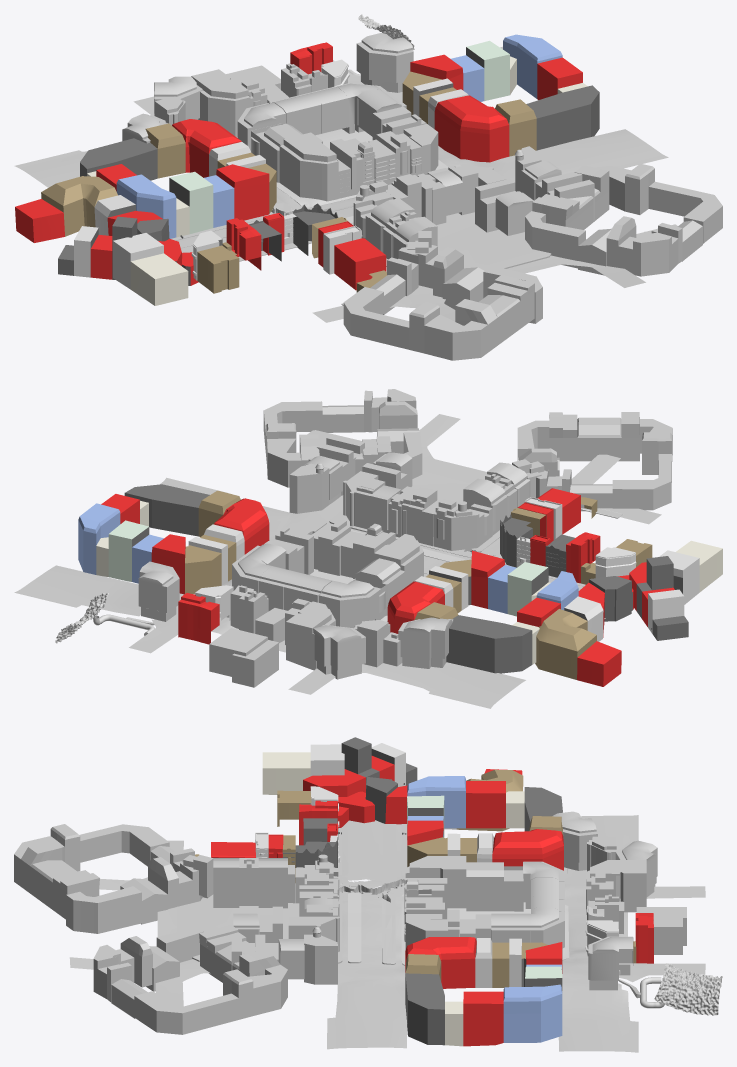
Rendered from Prova.fbx.
3 views of the same model, one above another, from view 1: azimuth 30°, elevation 25°; view 2: azimuth 150°, elevation 25°; view 3: azimuth 270°, elevation 25° (orthographic). The views are drawn at different scales.
Visible parts, largest first — view 1: ScaleTest004, Box175, Box184, Object048, Plane086, Plane087, Plane088, Plane111, Object040, Plane106, Object046, Object043 (+21 smaller); view 2: ScaleTest004, Object048, Box175, Box184, Plane086, Plane087, Object045, Object046, Object044, Plane111, Plane091, Object040 (+27 smaller); view 3: ScaleTest004, Object048, Box184, Box175, Plane086, Plane087, Plane112, Plane111, Plane106, Plane089, Plane088, Object046 (+23 smaller).
Part boxes in pixels (x1,y1,x2,y2): ScaleTest004: [15, 34, 599, 305]; Box175: [343, 245, 542, 360]; Box184: [525, 163, 722, 276]; Object048: [14, 46, 677, 322]; Plane086: [191, 203, 386, 293]; Plane087: [330, 106, 438, 198]; Plane088: [279, 132, 338, 201]; Plane111: [356, 33, 413, 92]; Object040: [269, 87, 348, 135]; Plane106: [191, 69, 250, 137]; Object046: [290, 42, 349, 87]; Object043: [495, 191, 533, 235]; ScaleTest004: [78, 484, 722, 686]; Object048: [14, 414, 661, 708]; Box175: [517, 412, 672, 511]; Box184: [263, 389, 422, 487]; Plane086: [500, 488, 652, 584]; Plane087: [264, 519, 395, 578]; Object045: [313, 625, 365, 679]; Object046: [178, 585, 233, 644]; Object044: [398, 617, 453, 668]; Plane111: [126, 561, 179, 625]; Plane091: [319, 580, 379, 628]; Object040: [258, 566, 332, 610]; ScaleTest004: [262, 737, 563, 1046]; Object048: [69, 815, 705, 1052]; Box184: [93, 925, 287, 1034]; Box175: [14, 824, 202, 933]; Plane086: [195, 786, 340, 882]; Plane087: [404, 878, 491, 949]; Plane112: [654, 963, 722, 1015]; Plane111: [588, 936, 640, 998]; Plane106: [586, 860, 646, 914]; Plane089: [466, 862, 503, 911]; Plane088: [405, 856, 466, 908]; Object046: [585, 913, 653, 963].
Bounding box in the file's own units: 243 × 28.43 × 263.
